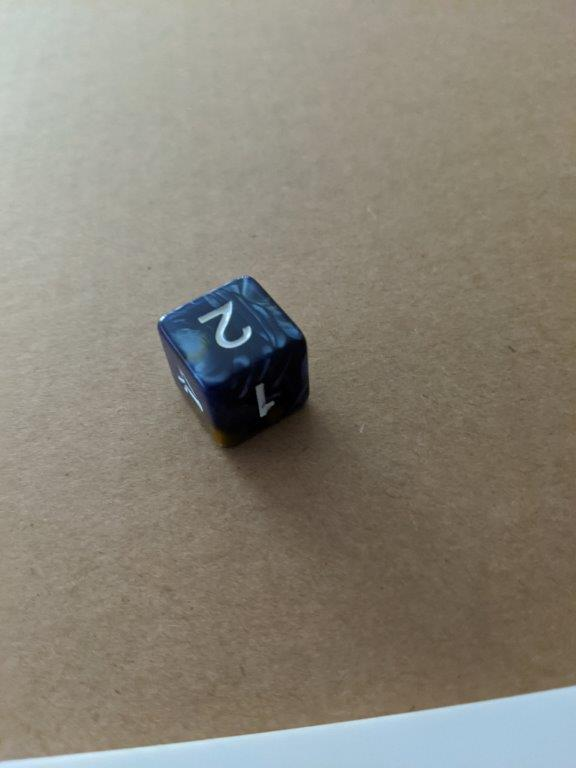d6-2: (159, 275, 312, 452)
